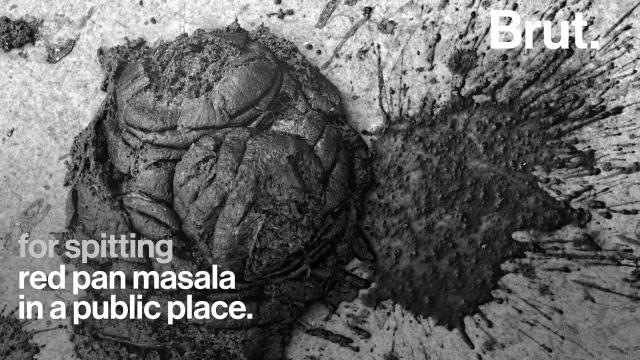spit: (344, 86, 610, 327)
